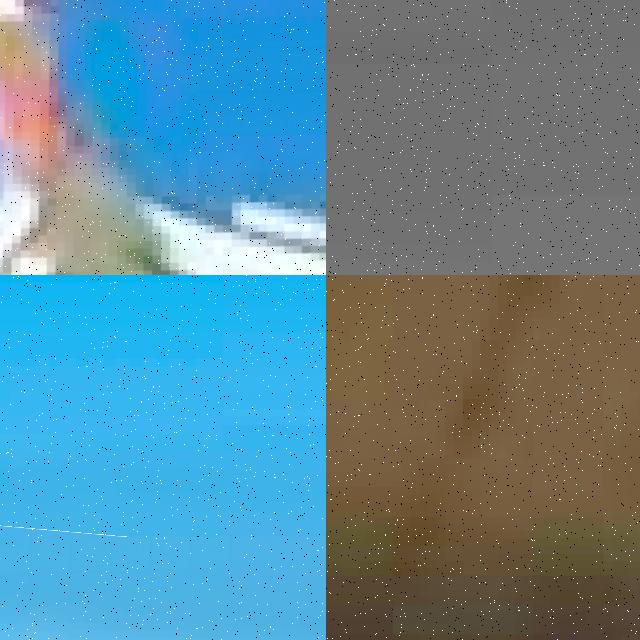0: (0, 0, 326, 275)
drone: (0, 537, 326, 640)
